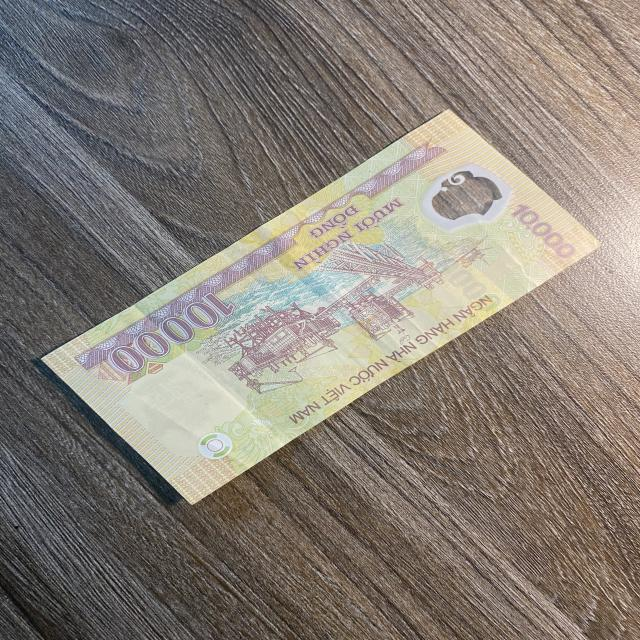10 000 VND: (39, 108, 606, 506)
